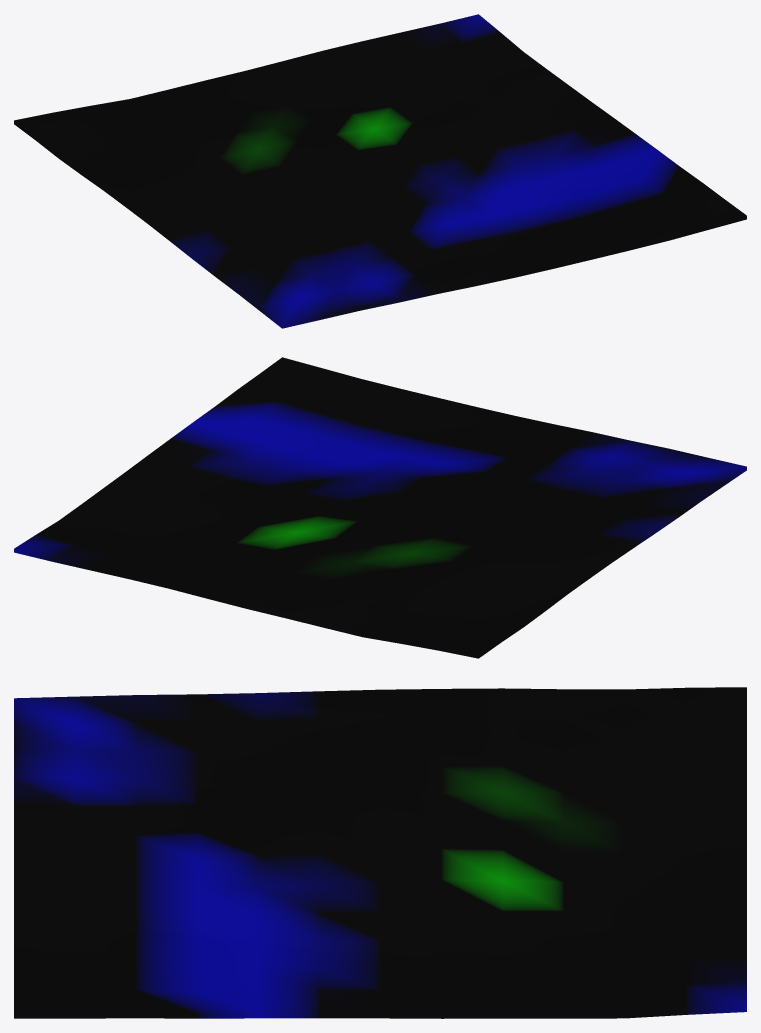
Rendered from coast_6_4.glb.
3 renders of one model, top to bottom at view 1: azimuth 30°, elevation 25°; view 2: azimuth 150°, elevation 25°; view 3: azimuth 270°, elevation 25°, orthographic. The views are drawn at different scales.
Parts seen in each view (by area): view 1: terrain; view 2: terrain; view 3: terrain.
Part boxes in pixels (<box>): terrain: <box>14,14,746,328</box>; terrain: <box>14,357,746,658</box>; terrain: <box>14,687,746,1018</box>.
Bounding box in the file's own units: 192 × 7.32 × 192.
